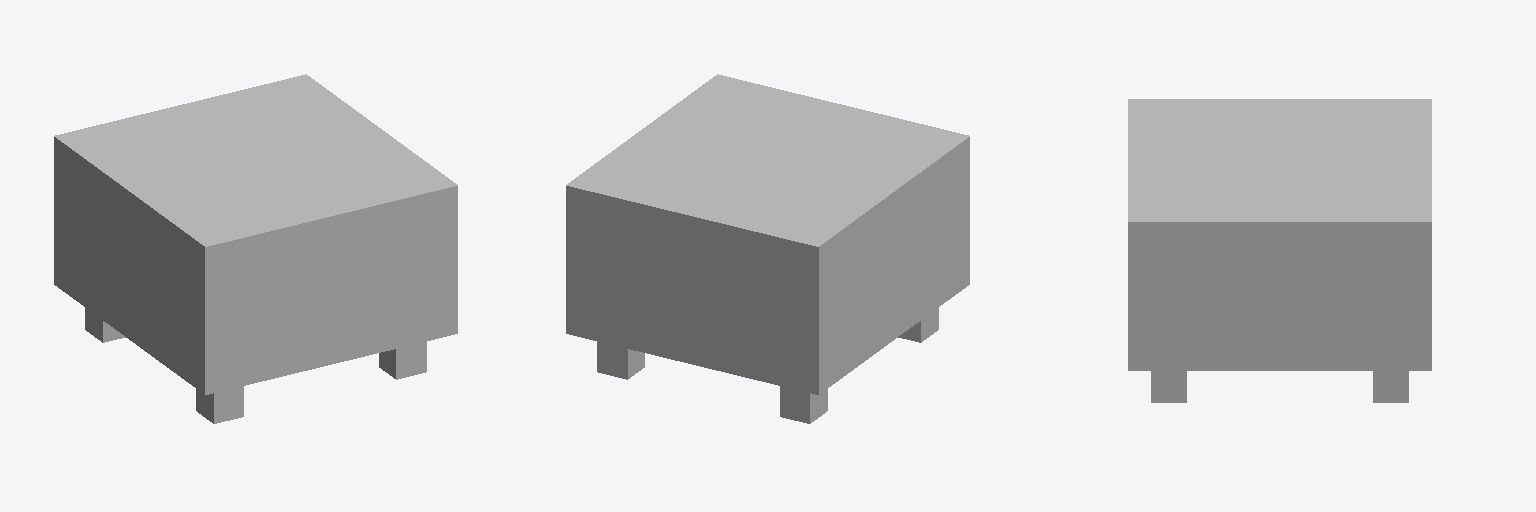
The model's file is Chair2.obj.
3 views of the same model, side by side, from view 1: azimuth 30°, elevation 25°; view 2: azimuth 150°, elevation 25°; view 3: azimuth 270°, elevation 25° (orthographic).
Parts seen in each view (by area): view 1: Untitled.001; view 2: Untitled.001; view 3: Untitled.001.
Part boxes in pixels (bbox=[...]): Untitled.001: bbox=[54, 74, 457, 423]; Untitled.001: bbox=[566, 74, 969, 423]; Untitled.001: bbox=[1128, 99, 1431, 402].
Size of the model in its own units: 2.5 by 1.8 by 2.6.